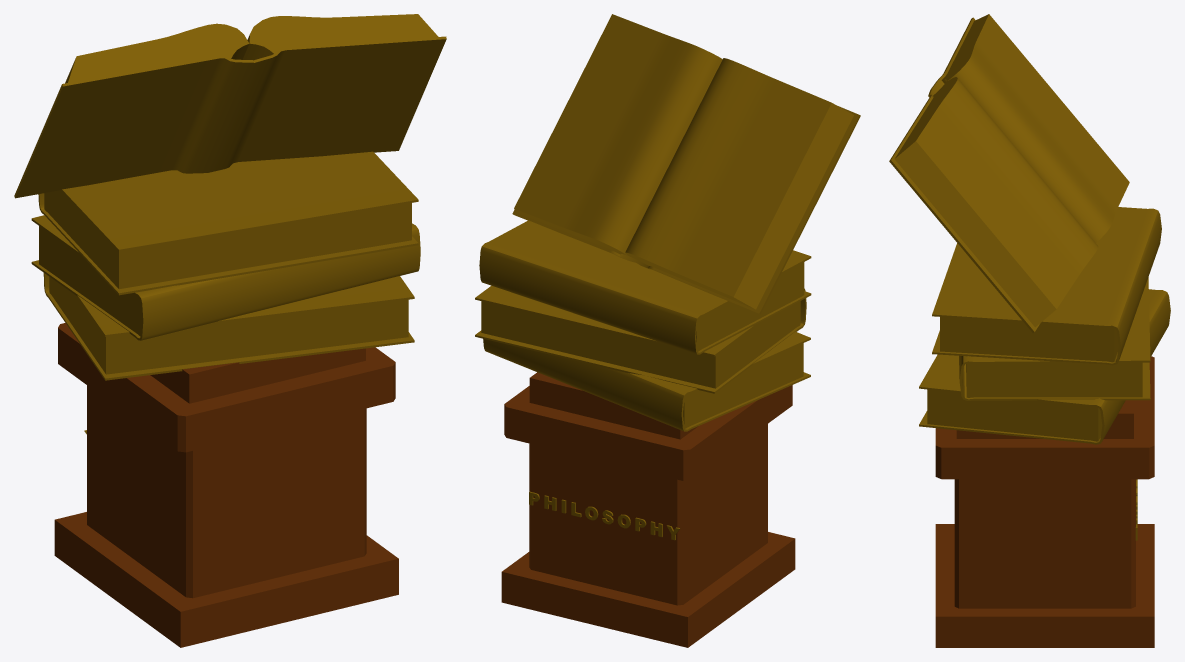
The model's file is mesh_Weight_Philosophy.fbx.
The picture shows the model from 3 angles, left to right: view 1: azimuth 30°, elevation 25°; view 2: azimuth 150°, elevation 25°; view 3: azimuth 270°, elevation 25°; orthographic projection. The views are drawn at different scales.
Visible parts, largest first — view 1: model_Weight_Philosophy; view 2: model_Weight_Philosophy; view 3: model_Weight_Philosophy.
Part boxes in pixels (bbox=[...]): model_Weight_Philosophy: bbox=[14, 14, 446, 647]; model_Weight_Philosophy: bbox=[475, 14, 860, 647]; model_Weight_Philosophy: bbox=[889, 14, 1170, 647].
Bounding box in the file's own units: 6.43 × 9.86 × 4.85.
